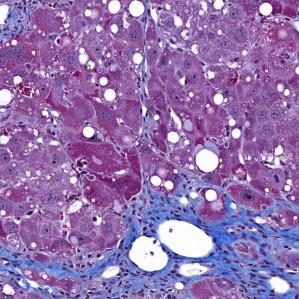fibrosis: (117, 182, 293, 295), (44, 249, 146, 286)
